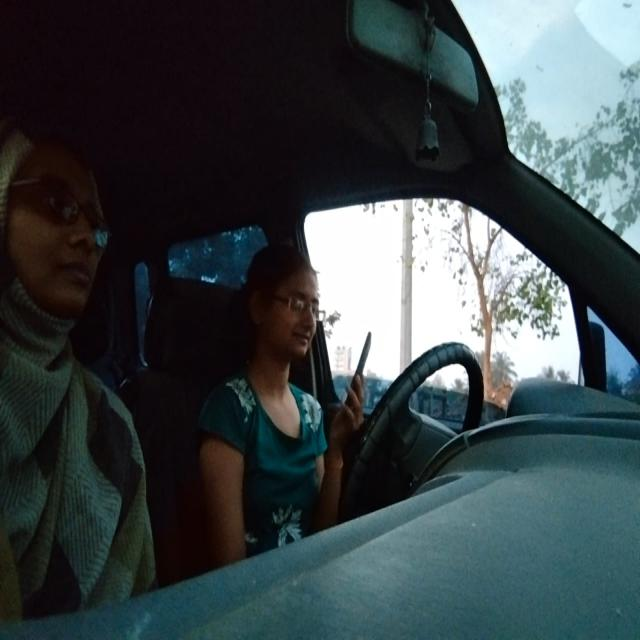mobile: (345, 322, 377, 430)
person: (0, 115, 111, 372), (238, 235, 324, 368)
